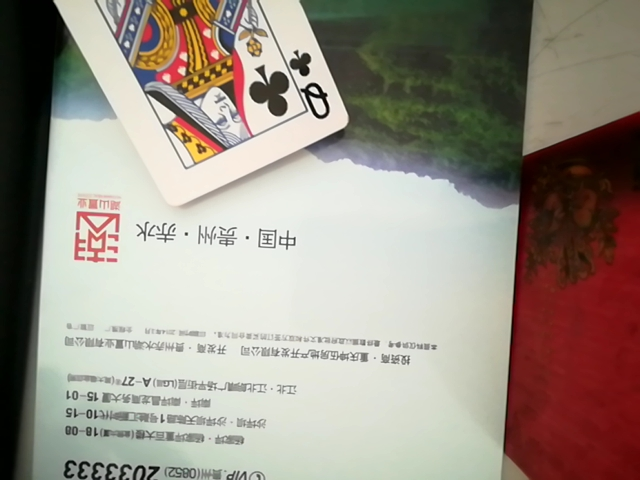mh q: (25, 0, 364, 214)
